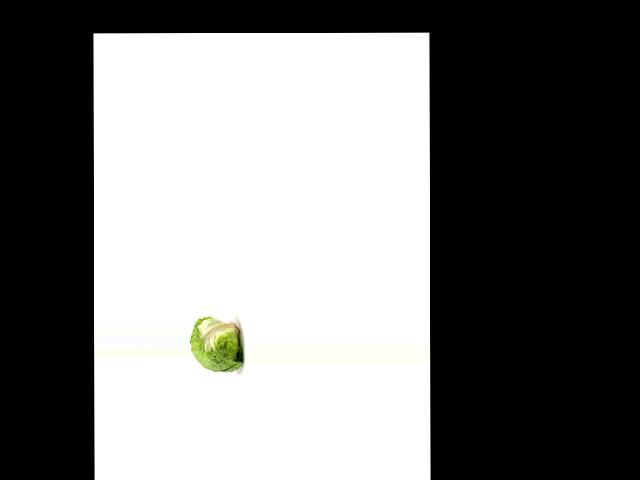lettuce: (190, 315, 246, 373)
